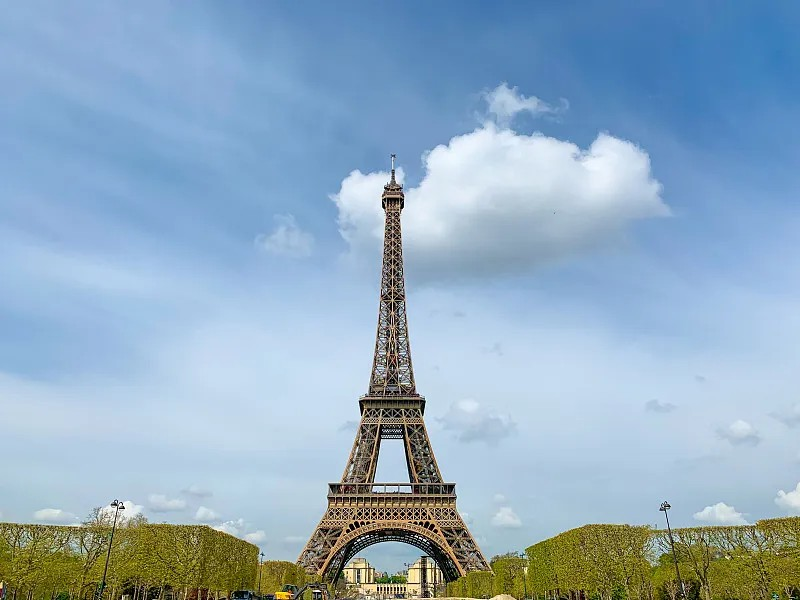Eiffel: (296, 154, 497, 583)
